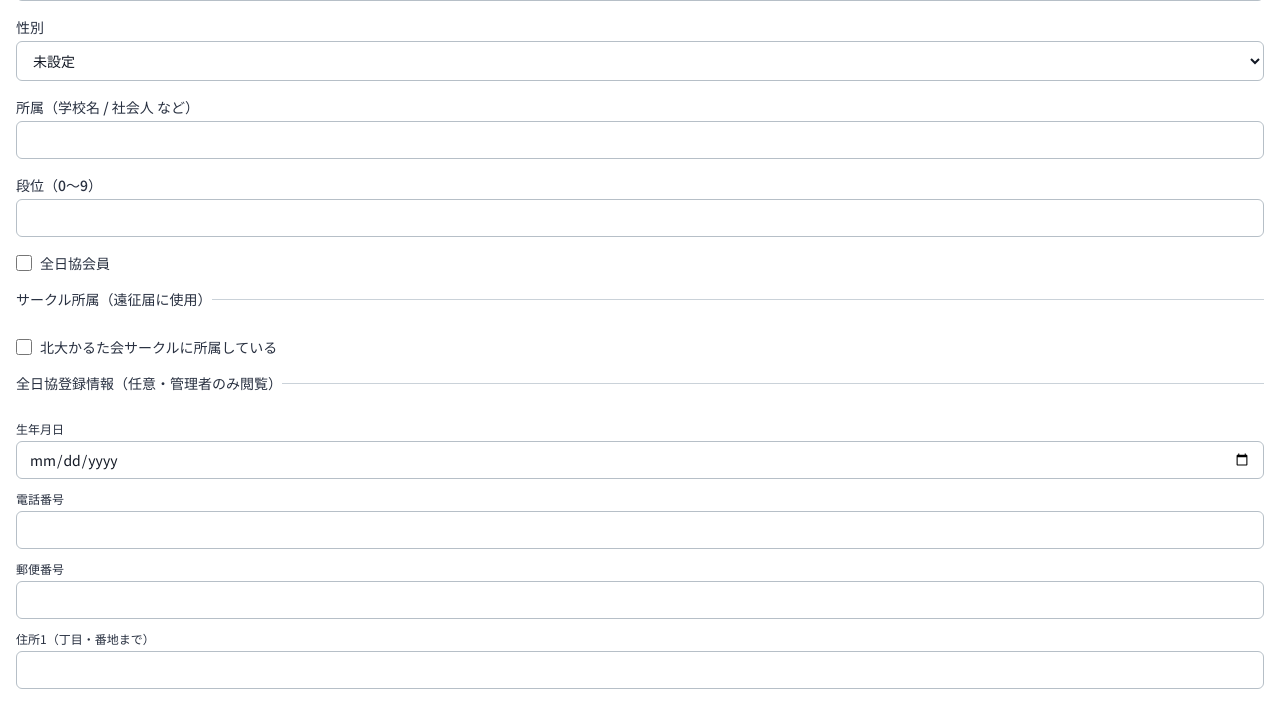
EditMemberForm — サークル所属ブロック › ON にすると 所属・学部等名・学年 が開く
(page scrolled)
Click the checkbox labelled "北大かるた会サークルに所属している" at (24, 347), box [16, 339, 32, 355]
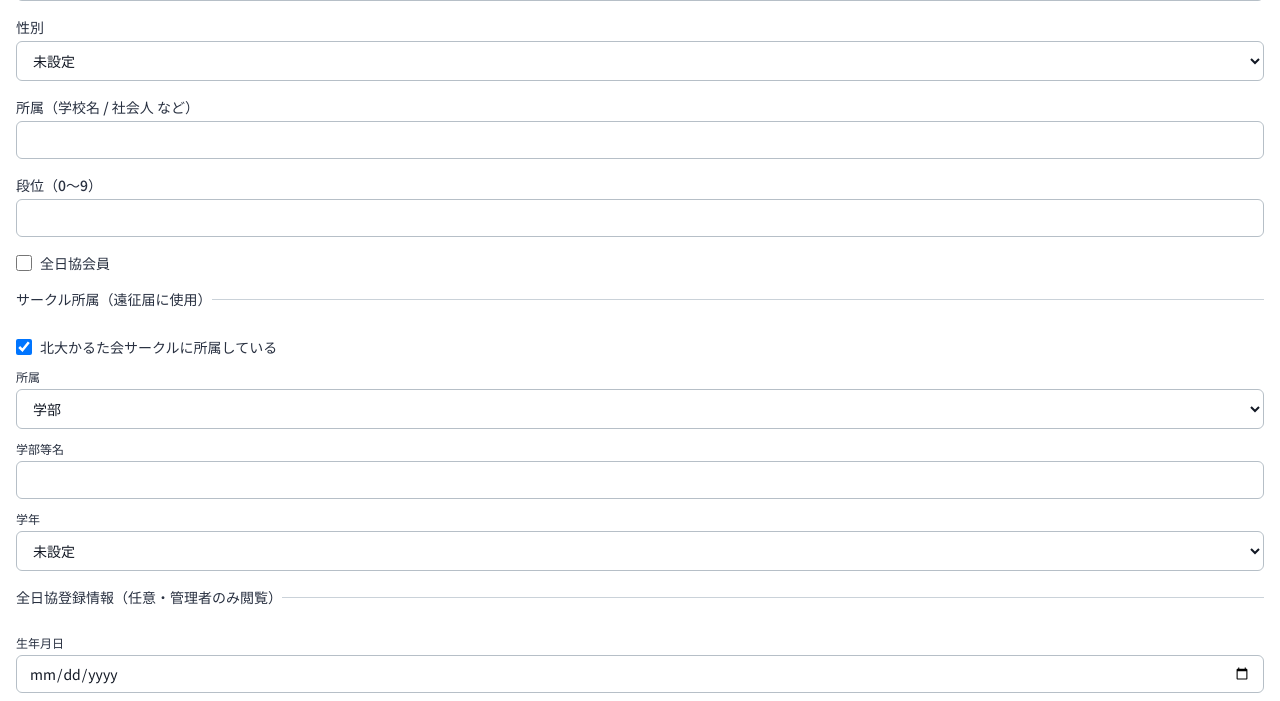
Expected: the dropdown labelled "所属" is shown, [16, 389, 1264, 429]
Expected: the field labelled "学部等名" is shown, [16, 461, 1264, 499]
Expected: the dropdown labelled "学年" is shown, [16, 531, 1264, 571]
